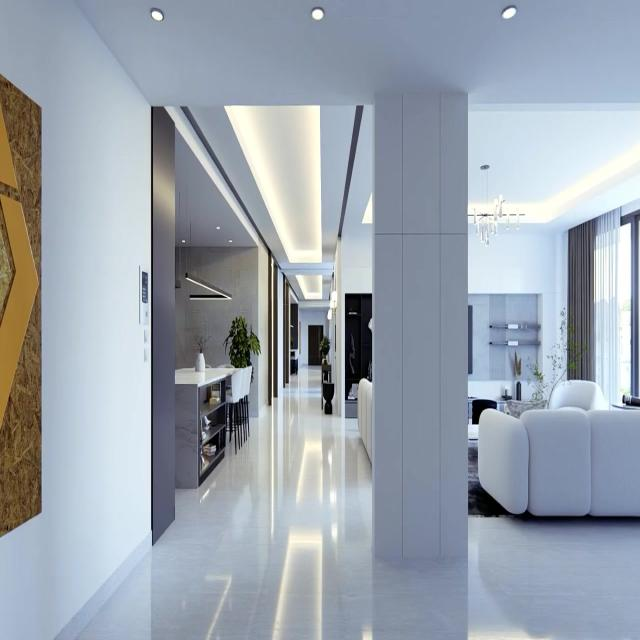obstacle: (477, 378, 639, 518)
